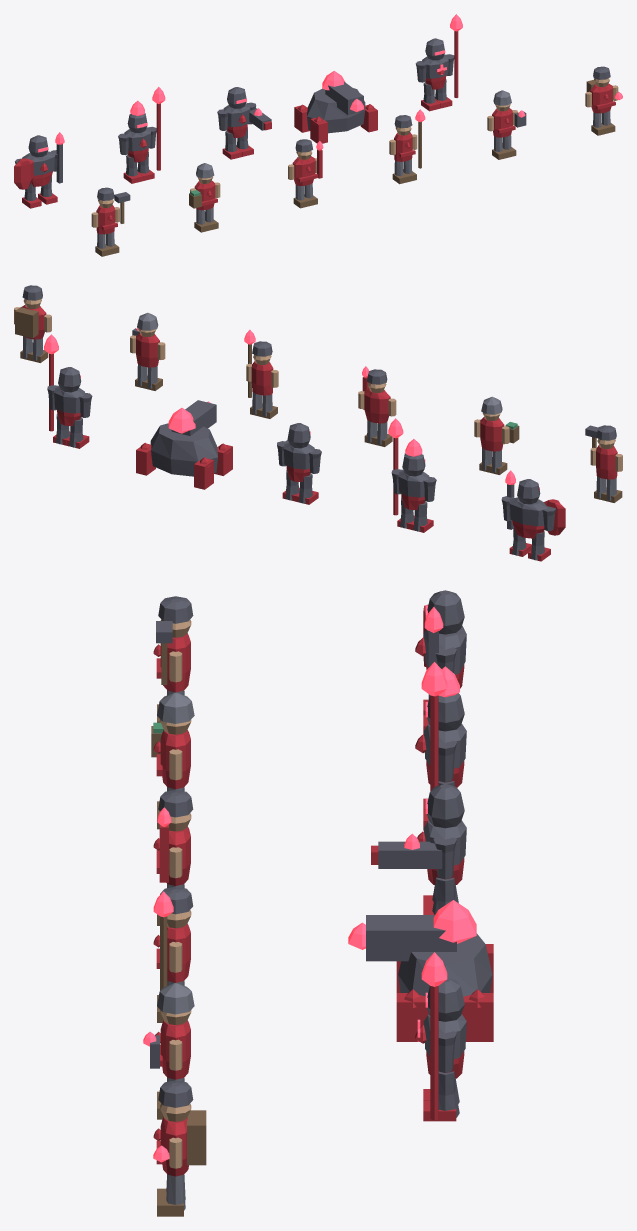
File: tenebra_faction_candidates.glb
3 views of the same model, one above another, from view 1: azimuth 30°, elevation 25°; view 2: azimuth 150°, elevation 25°; view 3: azimuth 270°, elevation 25° (orthographic). The views are drawn at different scales.
Parts seen in each view (by area): view 1: tenebra_siege, tenebra_infantry, tenebra_mage, tenebra_healer, tenebra_gunner, tenebra_mora, tenebra_rogar, tenebra_kael, tenebra_taro, tenebra_zed, tenebra_velin; view 2: tenebra_siege, tenebra_infantry, tenebra_mage, tenebra_healer, tenebra_gunner, tenebra_kael, tenebra_velin, tenebra_mora, tenebra_rogar, tenebra_taro, tenebra_zed; view 3: tenebra_siege, tenebra_gunner, tenebra_healer, tenebra_taro, tenebra_mage, tenebra_zed, tenebra_infantry, tenebra_velin, tenebra_mora, tenebra_rogar, tenebra_kael.
Boxes of the visible parts, x1,y1,x2,y2 form: tenebra_siege: [294, 71, 377, 143]; tenebra_infantry: [14, 132, 64, 208]; tenebra_mage: [118, 87, 165, 183]; tenebra_healer: [415, 14, 462, 111]; tenebra_gunner: [217, 87, 271, 159]; tenebra_mora: [389, 109, 425, 184]; tenebra_rogar: [91, 187, 130, 256]; tenebra_kael: [288, 139, 323, 208]; tenebra_taro: [585, 66, 622, 135]; tenebra_zed: [487, 90, 526, 159]; tenebra_velin: [189, 163, 220, 232]; tenebra_siege: [136, 400, 232, 489]; tenebra_infantry: [501, 470, 565, 561]; tenebra_mage: [388, 418, 436, 532]; tenebra_healer: [44, 334, 92, 448]; tenebra_gunner: [277, 423, 321, 504]; tenebra_kael: [358, 366, 396, 446]; tenebra_velin: [474, 396, 519, 474]; tenebra_mora: [244, 330, 278, 418]; tenebra_rogar: [585, 425, 622, 502]; tenebra_taro: [14, 285, 51, 362]; tenebra_zed: [130, 312, 165, 390]; tenebra_siege: [348, 900, 493, 1041]; tenebra_gunner: [371, 784, 466, 914]; tenebra_healer: [415, 952, 466, 1121]; tenebra_taro: [153, 1080, 206, 1216]; tenebra_mage: [415, 662, 466, 830]; tenebra_zed: [143, 983, 194, 1119]; tenebra_infantry: [415, 590, 466, 734]; tenebra_velin: [151, 692, 194, 829]; tenebra_mora: [153, 886, 193, 1022]; tenebra_rogar: [153, 596, 193, 722]; tenebra_kael: [153, 790, 193, 925].
Size of the model in its own units: 18.57 by 2.9 by 5.2.
